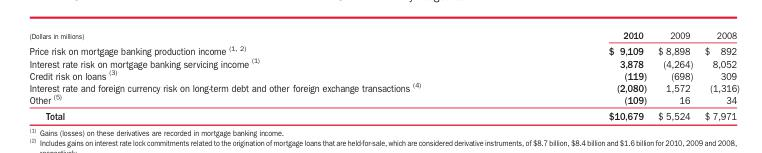table: (28, 29, 738, 121)
table column: (28, 29, 514, 121), (514, 29, 651, 121), (651, 29, 697, 121), (697, 29, 738, 121)
table column header: (28, 29, 738, 42)
table row: (28, 92, 738, 107), (28, 42, 738, 56), (28, 107, 738, 121), (28, 29, 738, 42), (28, 56, 738, 68), (28, 68, 738, 80), (28, 80, 738, 92)
